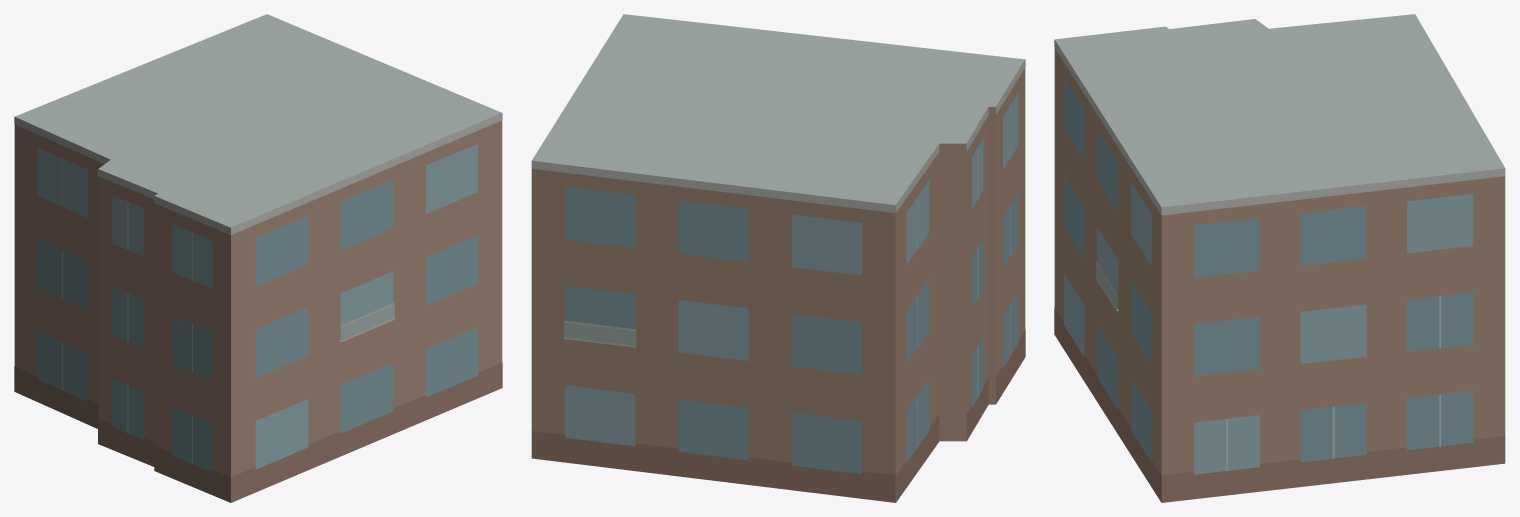
Rendered from survey-upis-32578011.glb.
3 views of the same model, side by side, from view 1: azimuth 30°, elevation 25°; view 2: azimuth 150°, elevation 25°; view 3: azimuth 270°, elevation 25° (orthographic). The views are drawn at different scales.
Visible parts, largest first — view 1: survey-upis-32578011.tmp; view 2: survey-upis-32578011.tmp; view 3: survey-upis-32578011.tmp.
Part boxes in pixels (box(x1,y1,x2,y2)): survey-upis-32578011.tmp: box(14, 14, 502, 502); survey-upis-32578011.tmp: box(531, 14, 1025, 502); survey-upis-32578011.tmp: box(1054, 14, 1505, 502).
Bounding box in the file's own units: 12.88 × 9.15 × 12.68.
